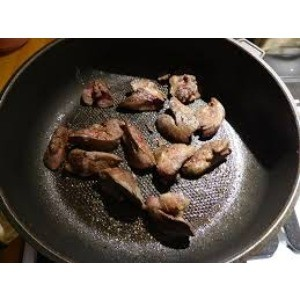liver_brain food: (74, 68, 242, 208)
